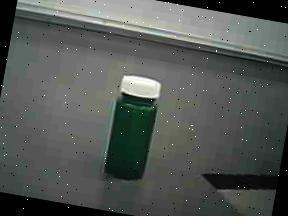Bottle C: (91, 62, 175, 196)
